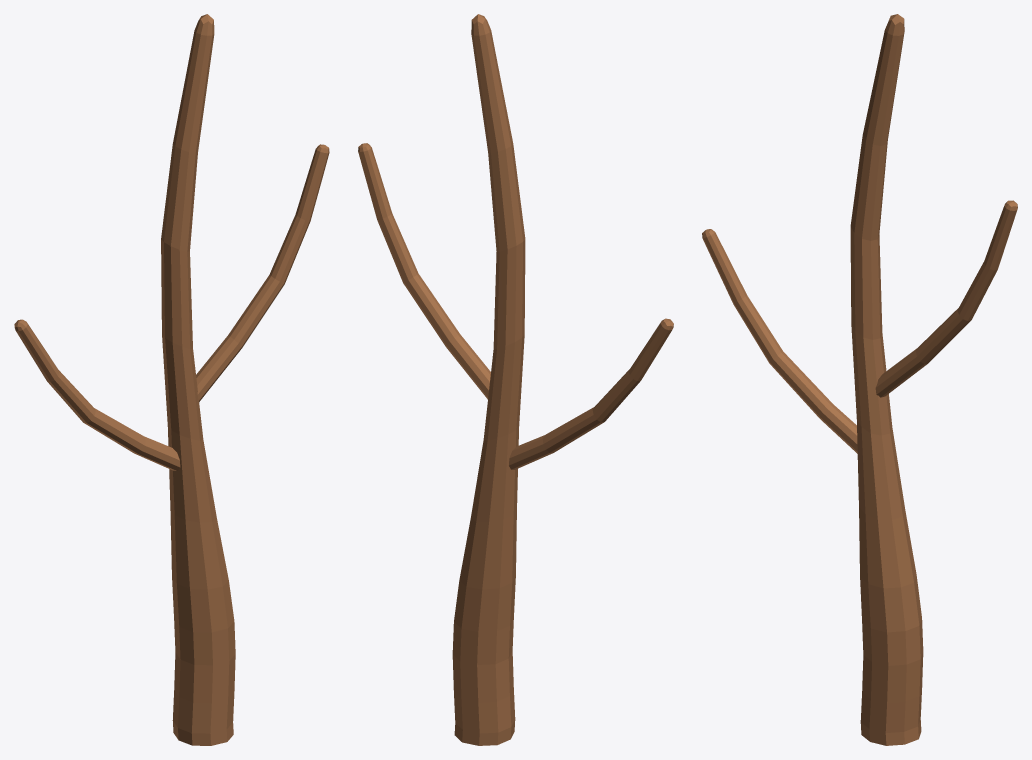
The model's file is Tree3.glb.
The picture shows the model from 3 angles, left to right: view 1: azimuth 30°, elevation 25°; view 2: azimuth 150°, elevation 25°; view 3: azimuth 330°, elevation 25°; orthographic projection.
Parts seen in each view (by area): view 1: Tree3; view 2: Tree3; view 3: Tree3.
Part boxes in pixels (x1,y1,x2,y2): Tree3: (14,14,329,745); Tree3: (358,14,673,745); Tree3: (702,14,1017,745).
Bounding box in the file's own units: 2.15 × 4.74 × 0.3459.
